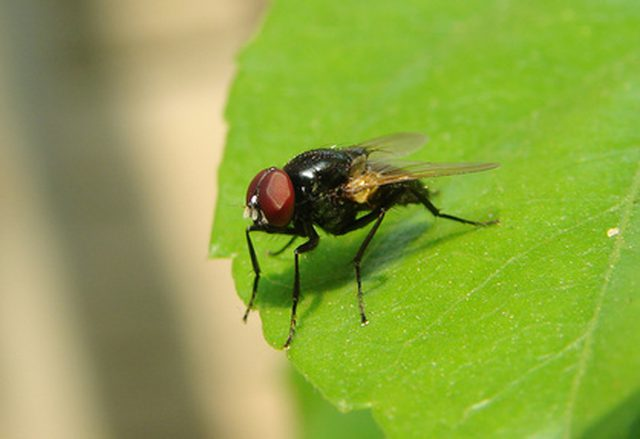fly: (221, 128, 507, 344)
